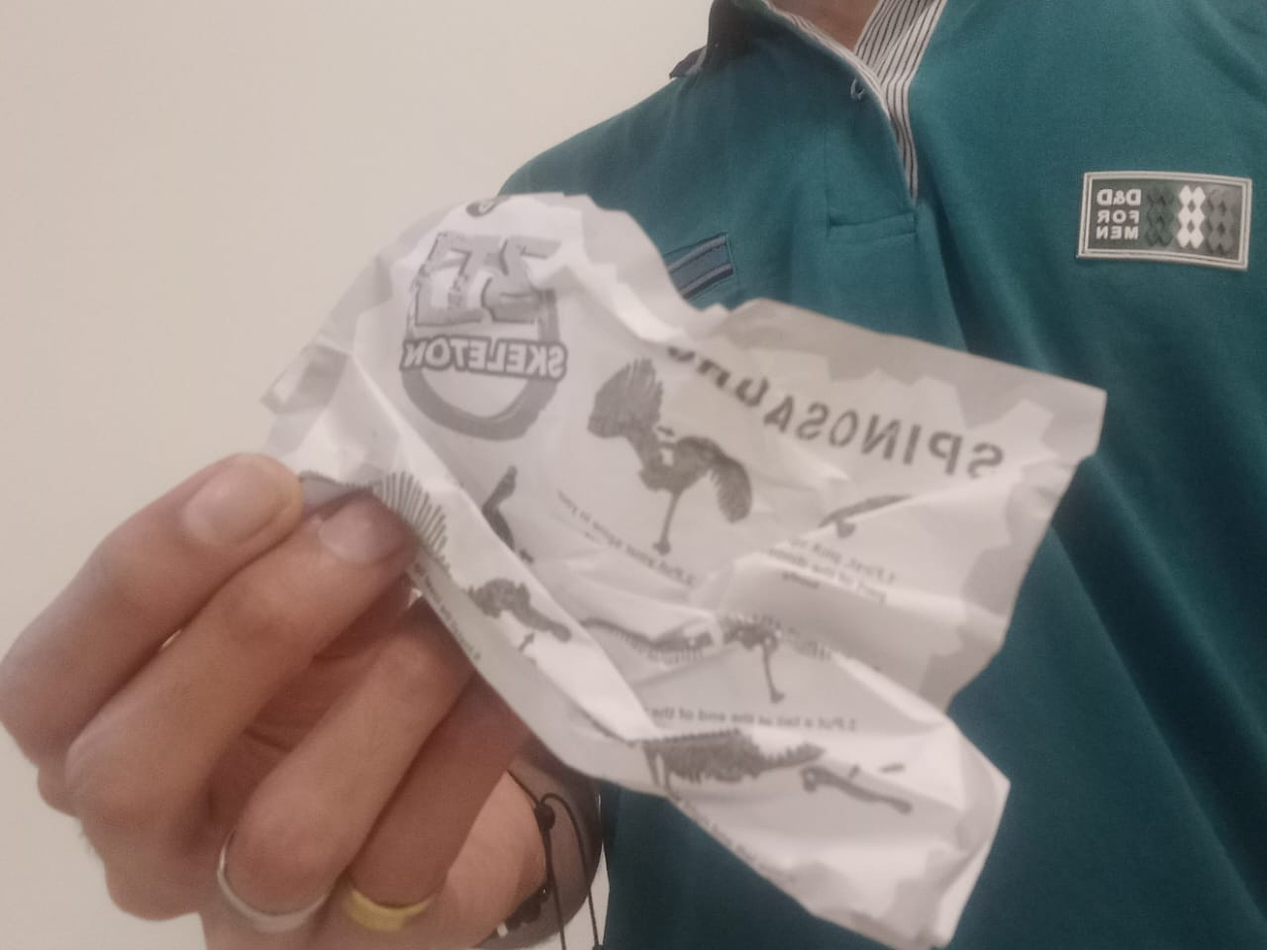Papel: (256, 188, 1105, 950)
